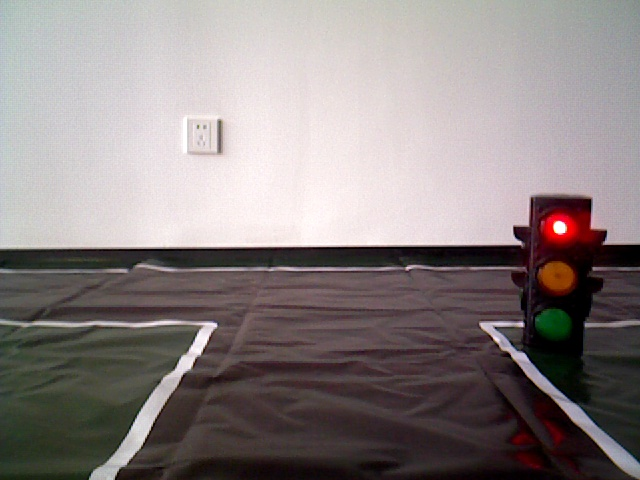red: (523, 202, 588, 343)
